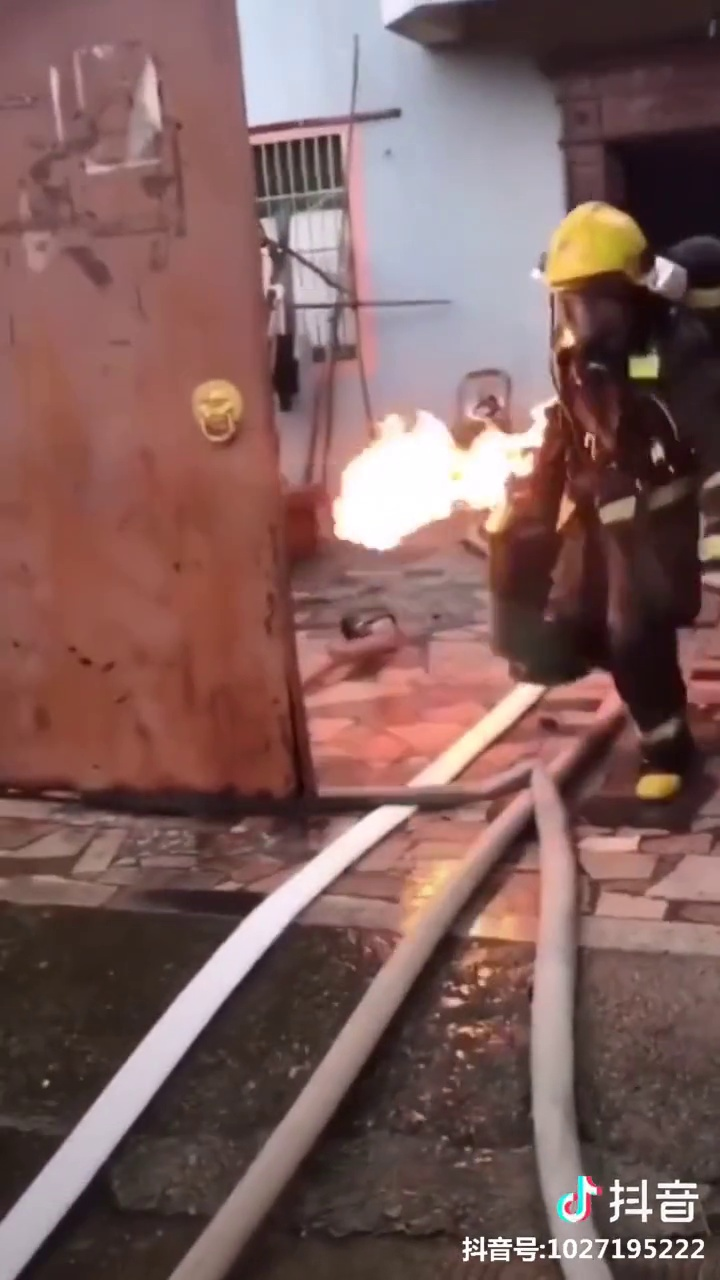fire: (311, 377, 510, 545)
